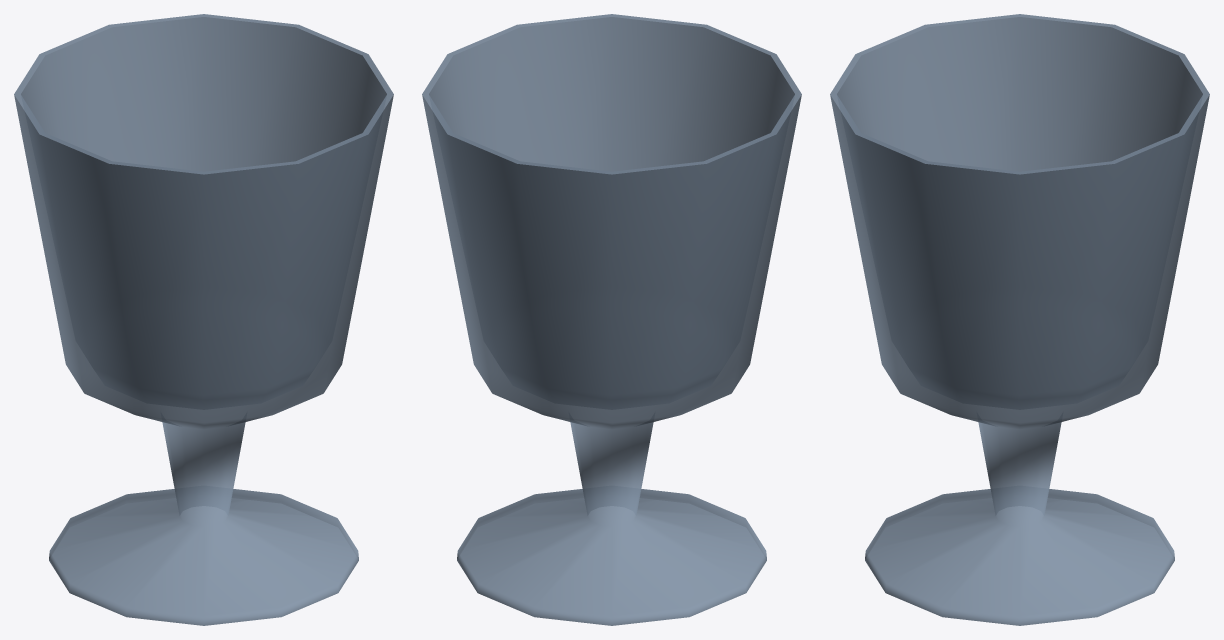
Rendered from mesh_glass_02.fbx.
3 views of the same model, side by side, from view 1: azimuth 30°, elevation 25°; view 2: azimuth 150°, elevation 25°; view 3: azimuth 270°, elevation 25° (orthographic).
Parts seen in each view (by area): view 1: mesh_glass_02; view 2: mesh_glass_02; view 3: mesh_glass_02.
Boxes of the visible parts, left/top/right/bottom form: mesh_glass_02: left=14, top=14, right=393, bottom=625; mesh_glass_02: left=422, top=14, right=801, bottom=625; mesh_glass_02: left=830, top=14, right=1209, bottom=625.
Bounding box in the file's own units: 0.1208 × 0.1635 × 0.1208.
